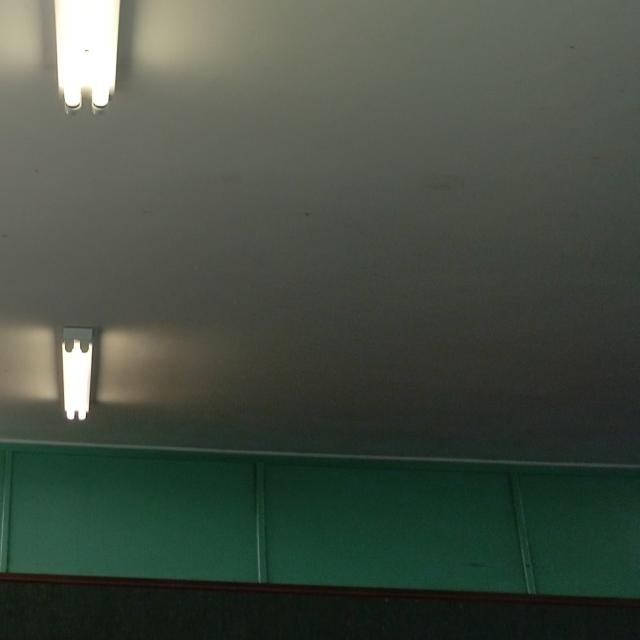fluorescent tube: (0, 0, 191, 135), (41, 303, 123, 431)
